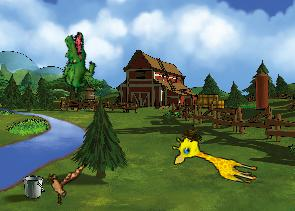crocodile: (48, 29, 105, 98)
eagle: (40, 154, 87, 209)
giraffe: (168, 133, 262, 186)
